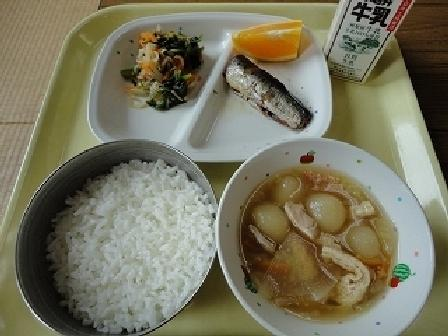Citrus: (221, 10, 310, 62)
Fish: (226, 55, 314, 140)
Milk: (321, 0, 414, 82)
Rice: (27, 140, 211, 329)
Salad: (96, 20, 206, 117)
Soups: (229, 150, 410, 336)
